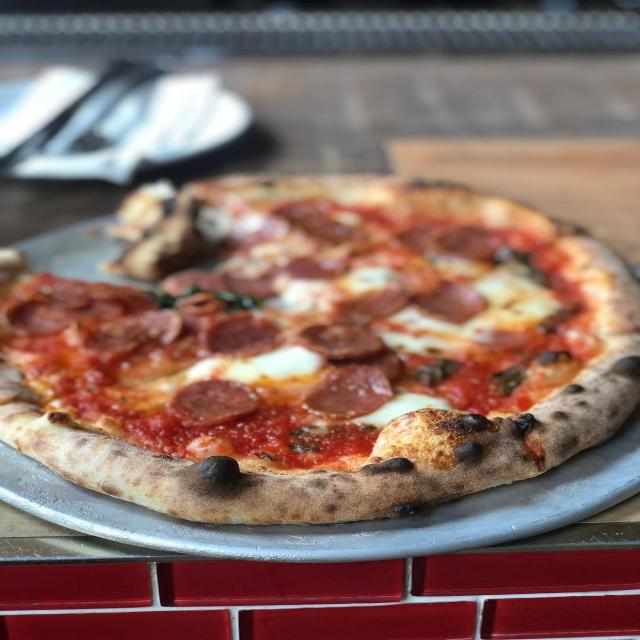pepperoni: (295, 364, 392, 416), (172, 374, 260, 426), (203, 315, 285, 358), (300, 324, 388, 358), (416, 284, 489, 323), (336, 284, 411, 320), (5, 301, 72, 336), (434, 226, 503, 259), (80, 325, 137, 357), (126, 312, 183, 343), (228, 266, 286, 296), (287, 255, 347, 278), (304, 217, 352, 245), (46, 282, 92, 308)
pizza: (0, 176, 637, 523)
